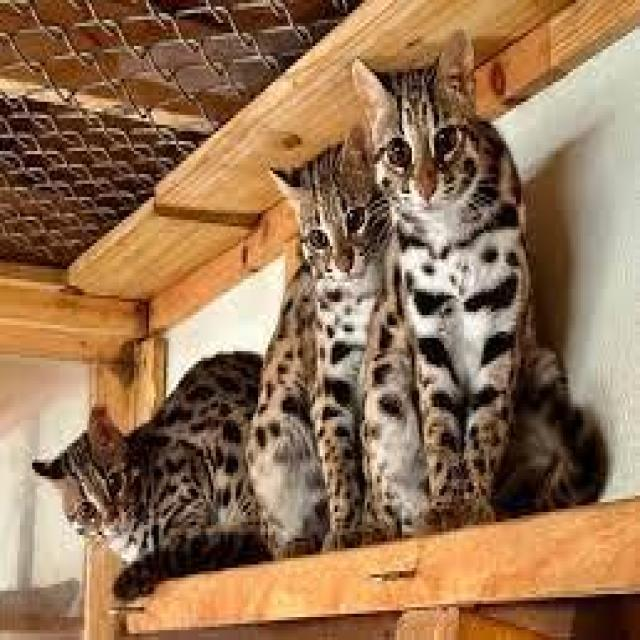leopard: (374, 70, 539, 468), (26, 368, 274, 608), (272, 122, 422, 475)
